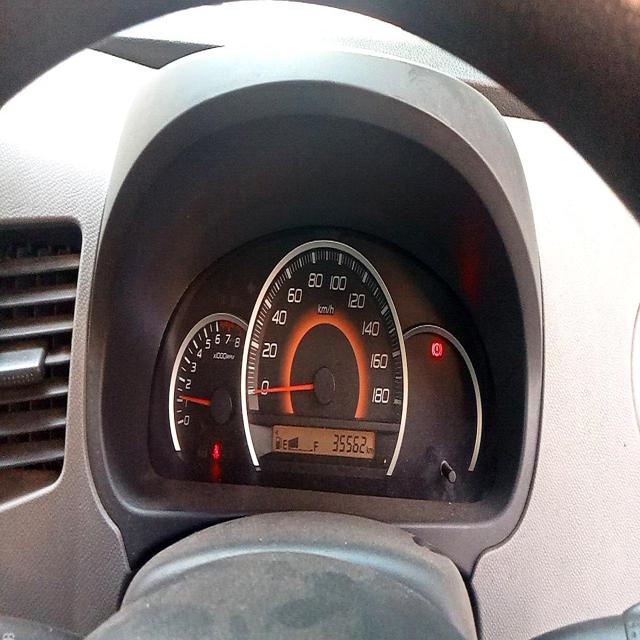odometer: (332, 431, 367, 458)
